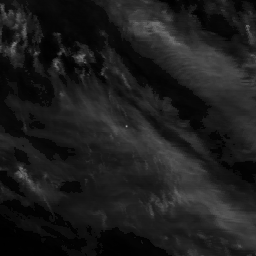Target: (124, 123, 129, 129)
